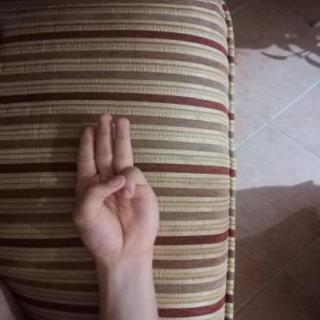THA: (59, 105, 171, 270)
